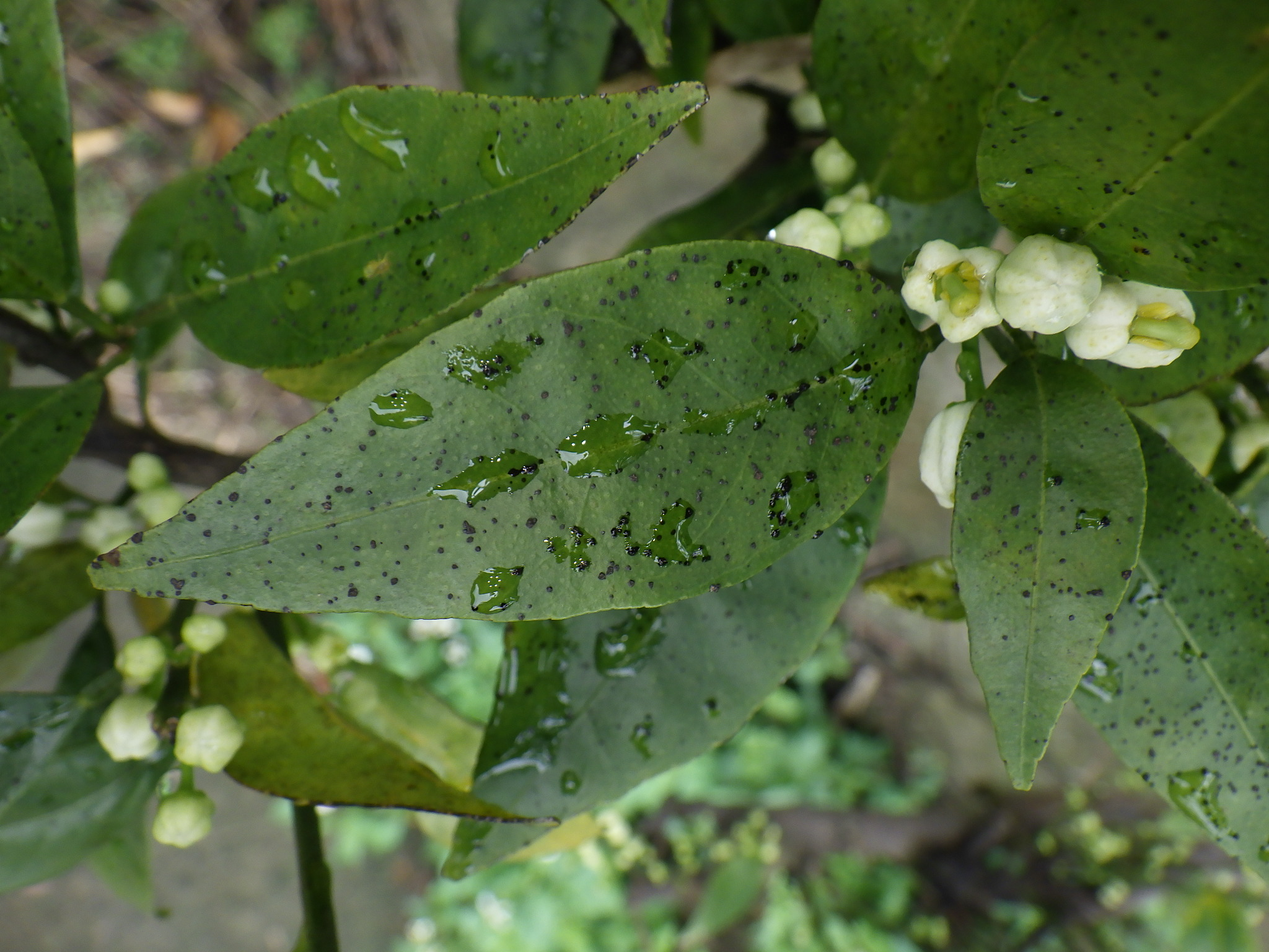Black_Spot: (97, 242, 920, 617)
